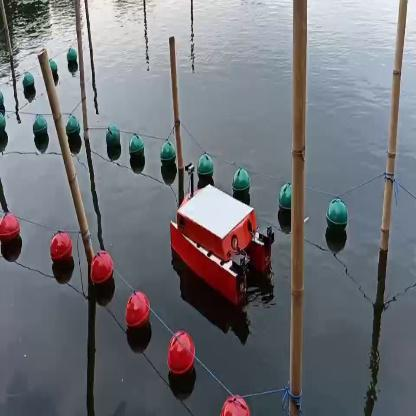green_buoy: (328, 194, 348, 238), (64, 114, 84, 145), (158, 140, 176, 174), (232, 168, 250, 200), (128, 132, 145, 164), (32, 114, 50, 142), (197, 155, 214, 183), (278, 186, 290, 220), (107, 128, 120, 153), (22, 74, 34, 100), (66, 50, 78, 70), (50, 62, 59, 80)
red_buoy: (44, 228, 74, 274), (170, 332, 194, 381), (89, 253, 116, 295), (125, 294, 152, 329), (0, 212, 21, 248), (220, 396, 250, 414)
